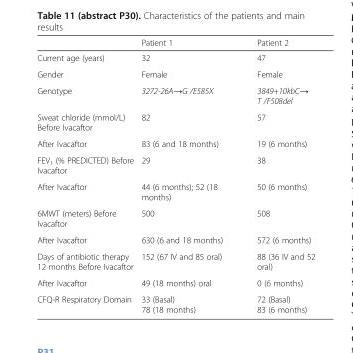table: (36, 37, 314, 313)
table column: (136, 37, 239, 313), (36, 37, 136, 313), (239, 37, 314, 313)
table column header: (36, 37, 314, 49)
table row: (36, 81, 314, 108), (36, 108, 314, 135), (36, 151, 314, 178), (36, 204, 314, 231), (36, 247, 314, 274), (36, 178, 314, 204), (36, 290, 314, 313), (36, 49, 314, 65), (36, 65, 314, 81), (36, 135, 314, 151), (36, 231, 314, 247), (36, 274, 314, 290), (36, 37, 314, 49)
